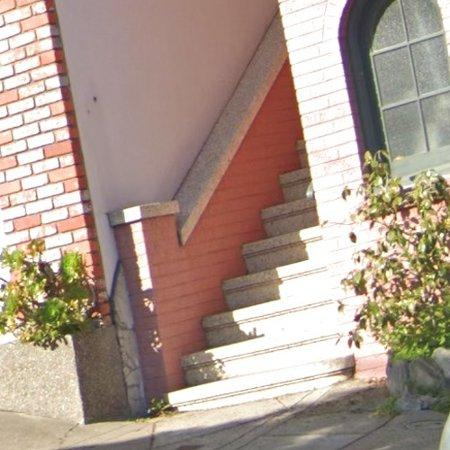stairs: (169, 140, 356, 412)
